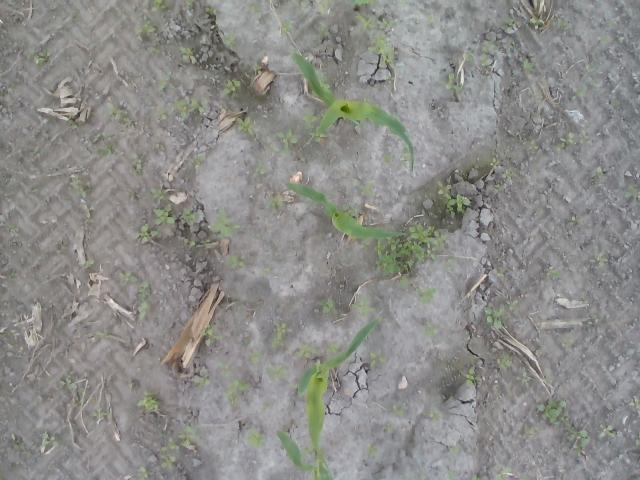Maize: (290, 51, 419, 174), (296, 316, 380, 459), (286, 180, 406, 240), (275, 423, 333, 480)
Weeds: (376, 222, 446, 274), (128, 186, 176, 246), (355, 12, 400, 64), (160, 422, 204, 472), (436, 177, 472, 215), (223, 362, 251, 407), (208, 206, 242, 238), (532, 398, 568, 426), (554, 130, 592, 154), (482, 304, 518, 329), (286, 0, 338, 17), (566, 423, 592, 456), (270, 127, 298, 156), (294, 342, 338, 360), (174, 96, 209, 117), (135, 280, 152, 322), (111, 104, 138, 129), (134, 15, 158, 42), (68, 176, 95, 200), (136, 390, 162, 412), (30, 45, 51, 71), (264, 361, 290, 382), (93, 131, 113, 158), (236, 116, 258, 140), (270, 322, 291, 346), (201, 326, 224, 347), (246, 426, 266, 450), (480, 39, 497, 67), (350, 294, 370, 317), (584, 63, 602, 88), (444, 70, 464, 92), (222, 78, 242, 100), (416, 287, 440, 305), (158, 71, 177, 93), (39, 430, 61, 448), (303, 104, 319, 128), (246, 349, 266, 368), (319, 297, 337, 317), (524, 14, 545, 30), (494, 352, 512, 370), (369, 350, 387, 368), (518, 55, 536, 73), (494, 463, 513, 480), (568, 85, 587, 102), (222, 254, 245, 268), (390, 400, 410, 416), (151, 0, 169, 17), (254, 158, 271, 176), (179, 207, 199, 222), (279, 19, 296, 36), (132, 152, 144, 176), (359, 182, 378, 197), (463, 366, 477, 386), (190, 374, 210, 388), (430, 401, 443, 422), (223, 33, 240, 49), (424, 321, 441, 337), (624, 183, 640, 200), (500, 168, 516, 185), (366, 440, 381, 458), (503, 16, 518, 34), (559, 18, 577, 33), (244, 2, 266, 14), (599, 423, 615, 439), (486, 152, 502, 168), (268, 192, 282, 210), (544, 266, 560, 281), (119, 270, 139, 282), (92, 407, 112, 419), (523, 138, 539, 152), (312, 128, 326, 144), (189, 154, 205, 168), (62, 374, 76, 390), (516, 367, 529, 384), (590, 254, 610, 265), (521, 426, 536, 440), (447, 255, 458, 274), (136, 464, 149, 480), (562, 338, 574, 354), (342, 204, 358, 216), (461, 51, 474, 65), (351, 0, 377, 7), (82, 207, 94, 222), (319, 24, 330, 40), (627, 396, 640, 409), (176, 46, 192, 56), (30, 146, 42, 159), (398, 276, 411, 288), (448, 446, 462, 457), (6, 272, 17, 286), (65, 398, 80, 408), (158, 108, 170, 120), (184, 238, 198, 248), (79, 259, 96, 267), (445, 469, 457, 480), (12, 440, 24, 450), (205, 7, 218, 16), (568, 215, 581, 224), (633, 432, 640, 448), (383, 154, 397, 162), (382, 423, 393, 433), (598, 34, 608, 45), (6, 83, 16, 94), (417, 470, 428, 480), (494, 182, 504, 192), (6, 222, 16, 232), (126, 382, 135, 392), (596, 166, 604, 177), (424, 15, 436, 22), (151, 46, 160, 55), (470, 473, 480, 480), (186, 0, 193, 9), (496, 272, 504, 277)
